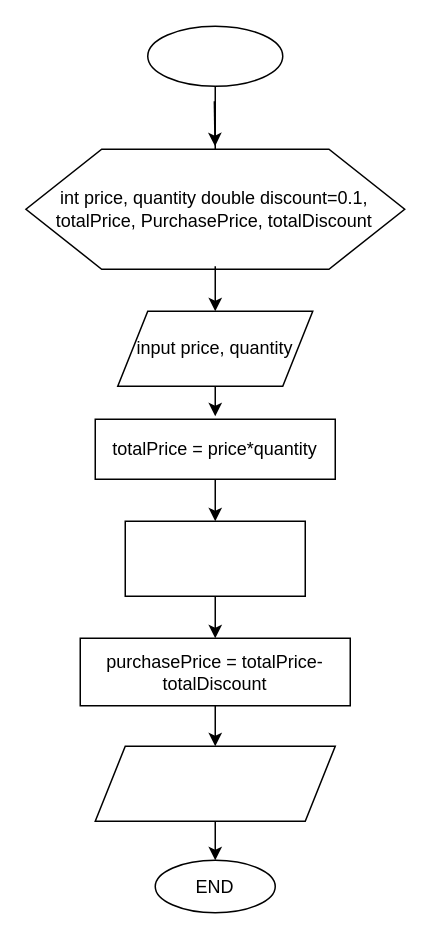
This 432x939 diagram has some shape labels left out. The centre of each missing label's shape, as x and y in pixels:
output totalDiscount, purchasePrice: the point at 214,783
START: the point at 214,55
totalDiscount = discount*totalPrice: the point at 214,558
